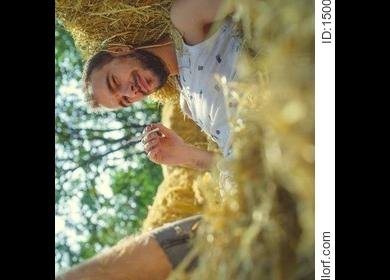Cigarette: (79, 0, 241, 174), (133, 126, 160, 138)
